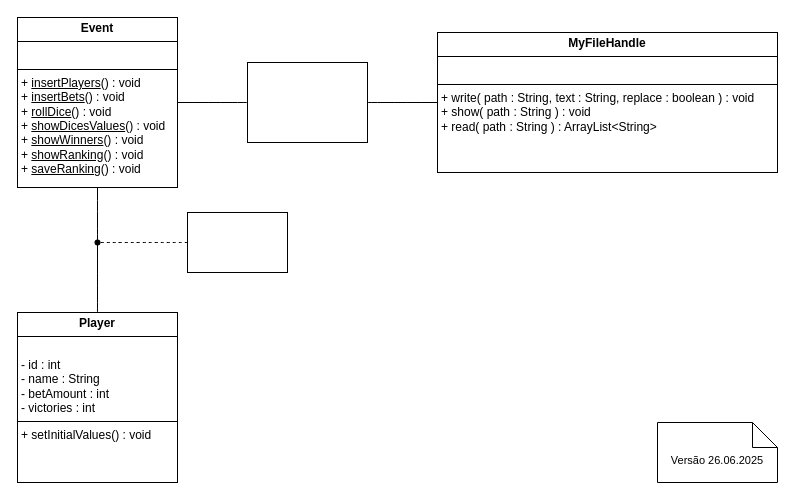
Image size: 795x500. Some labels were removed from this diagram. The shapes that lost their labels are listed below. From the top down, each one's box as (x1, y1, x2, y2) in pixels, then its label:
(246, 62, 368, 142): CSVManip
(186, 212, 288, 272): Dice - faceValue : int
